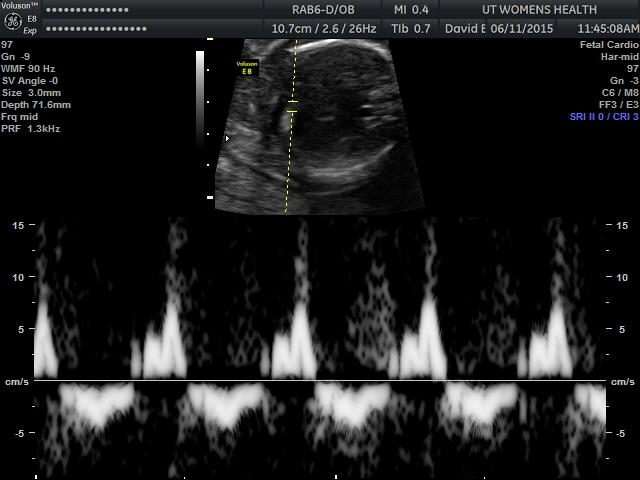Ultrasound-Waves: (37, 223, 605, 469)
